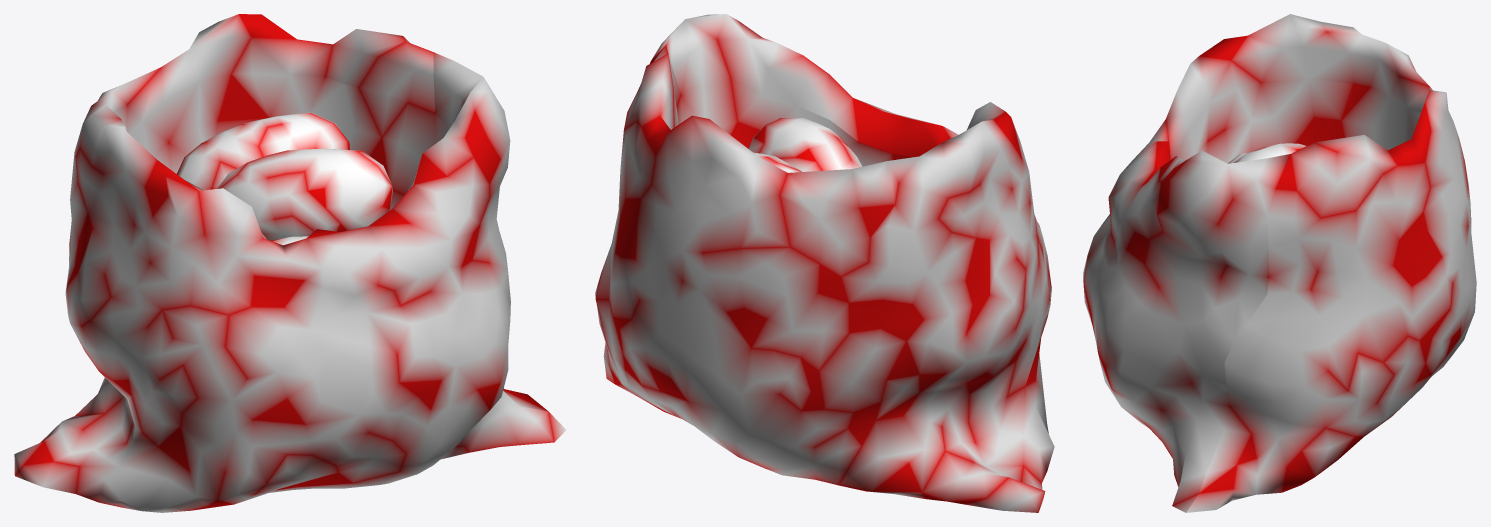
File: SM_PotatoSack01.FBX
3 renders of one model, left to right at view 1: azimuth 30°, elevation 25°; view 2: azimuth 150°, elevation 25°; view 3: azimuth 270°, elevation 25°, orthographic. The views are drawn at different scales.
Parts seen in each view (by area): view 1: SM_PotatoSack01_LOD0; view 2: SM_PotatoSack01_LOD0; view 3: SM_PotatoSack01_LOD0.
Part boxes in pixels (x1,y1,x2,y2): SM_PotatoSack01_LOD0: (14, 14, 565, 512); SM_PotatoSack01_LOD0: (595, 14, 1054, 512); SM_PotatoSack01_LOD0: (1083, 14, 1476, 512).
Size of what is drawn, in the model's own units: 38.24 by 30.3 by 29.15.
